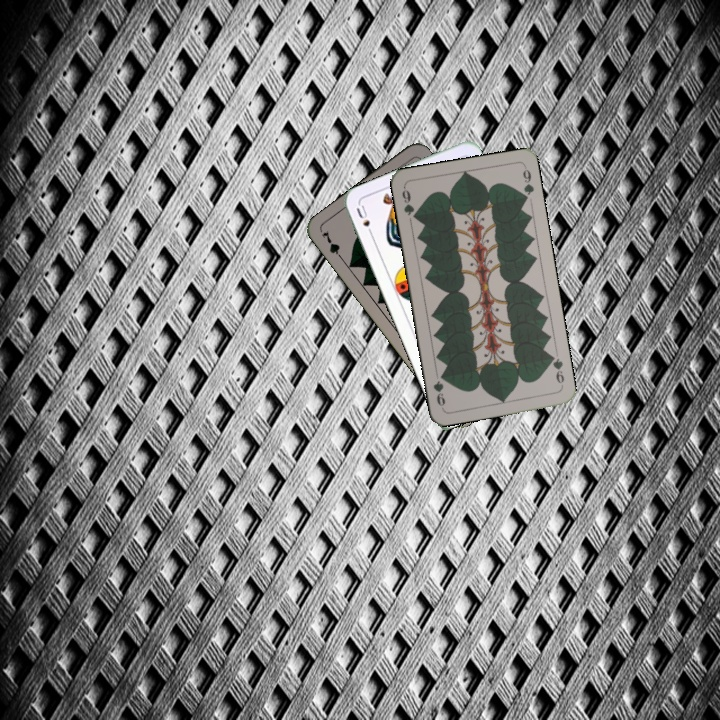G7: (318, 226, 347, 264)
G9: (398, 183, 420, 223), (545, 350, 567, 389)
SU: (352, 201, 376, 240)
